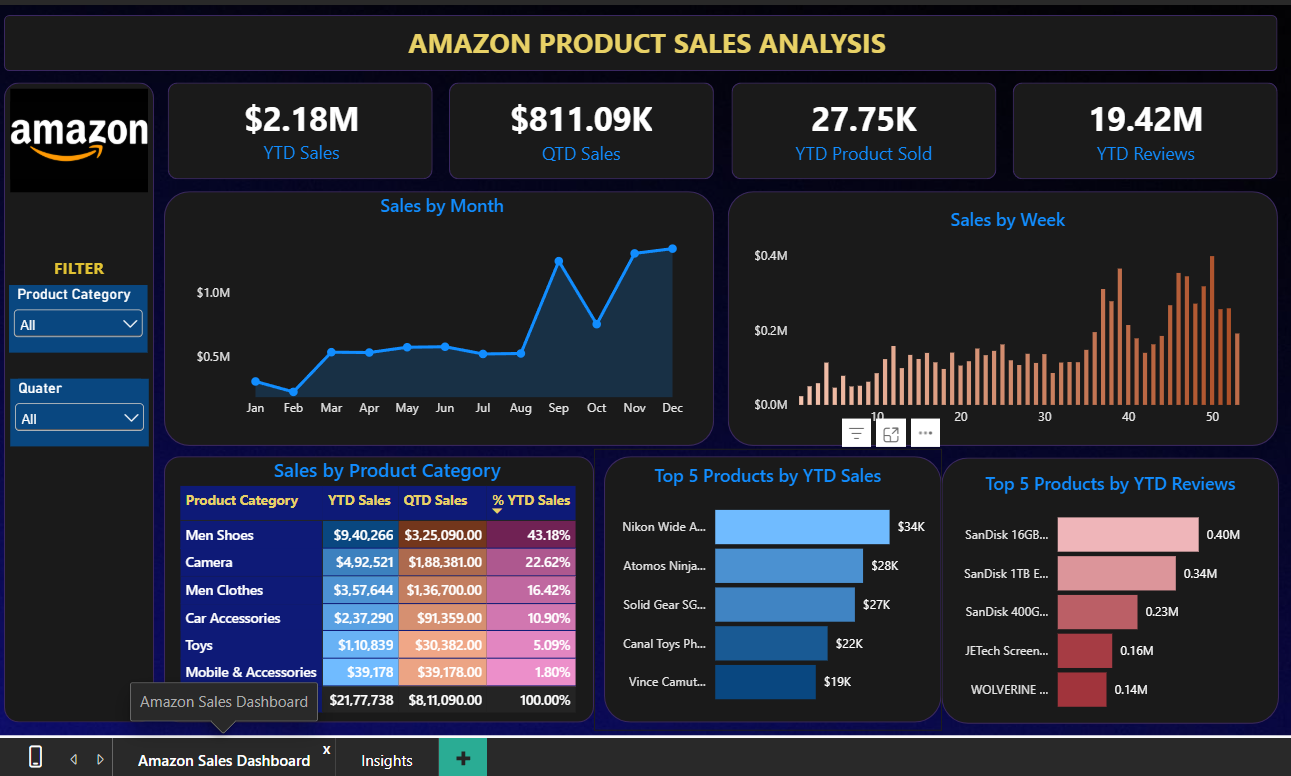

What the dashboard file says about the page in this screenshot:
{"tool":"powerbi","page":{"name":"Amazon Sales Dashboard","canvas":[1280,720],"ordinal":0},"visuals":[{"type":"shape","box":[15,9.8,1250,55],"z":0},{"type":"textbox","box":[391.4,18.4,509.2,46.6],"z":1000},{"type":"shape","box":[14.7,76.1,147.2,628.2],"z":2000},{"type":"shape","box":[175.5,76.1,260,95],"z":3000},{"type":"shape","box":[451.9,76.1,260,95],"z":4000},{"type":"shape","box":[728.4,76.1,260,95],"z":5000},{"type":"shape","box":[1004.9,76.1,260,95],"z":6000},{"type":"cardVisual","fields":{"Data":["Amazon_Data.YTD Sales"]},"box":[187.7,76.1,238,94.5],"z":7000},{"type":"cardVisual","fields":{"Data":["Amazon_Data.QTD Sales"]},"box":[461.4,81,240.5,85.9],"z":8000},{"type":"cardVisual","fields":{"Data":["Amazon_Data.YTD Product Sold"]},"box":[741.1,81,235.6,85.9],"z":9000},{"type":"cardVisual","fields":{"Data":["Amazon_Data.YTD Reviews"]},"box":[1016,81,239.3,85.9],"z":10000},{"type":"shape","box":[171.8,182.8,540,250],"z":11000},{"type":"shape","box":[725.2,182.8,540,250],"z":12000},{"type":"areaChart","title":"Sales by Month","fields":{"Category":["Calendar Table.Month"],"Y":["Sum(Amazon_Data.Price(Dollar))"]},"box":[187.7,170.6,514.1,254],"z":13000},{"type":"columnChart","title":"Sales by Week","fields":{"Category":["Calendar Table.Week"],"Y":["Sum(Amazon_Data.Price(Dollar))"]},"box":[735,184.1,530.1,249.1],"z":14000},{"type":"shape","box":[171.8,442.9,422.1,261.4],"z":15000},{"type":"pivotTable","fields":{"Rows":["Amazon_Data.Product Category"],"Values":["Amazon_Data.YTD Sales1","Amazon_Data.QTD Sales","Amazon_Data.YTD Sales"]},"box":[171.8,457.7,440,262.6],"z":16000},{"type":"textbox","box":[187.7,442.9,406.1,38],"z":17000},{"type":"shape","box":[603.7,442.9,331.3,261.4],"z":18000},{"type":"shape","box":[935,444.2,331.3,261.4],"z":19000},{"type":"clusteredBarChart","title":"Top 5 Products by YTD Sales","fields":{"Category":["Amazon_Data.Product Description"],"Y":["Amazon_Data.YTD Sales"]},"box":[593.9,435.6,341.1,277.3],"z":20000},{"type":"clusteredBarChart","title":"Top 5 Products by YTD Reviews","fields":{"Category":["Amazon_Data.Product Description"],"Y":["Amazon_Data.YTD Reviews"]},"box":[930.1,442.9,341.1,277.3],"z":21000},{"type":"slicer","fields":{"Values":["Amazon_Data.Product Category"]},"box":[19.6,274.8,136.2,66.3],"z":22000},{"type":"slicer","fields":{"Values":["Calendar Table.Quater"]},"box":[20.9,366.9,136.2,66.3],"z":23000},{"type":"image","box":[20.9,82.2,135,101.8],"z":24000},{"type":"textbox","box":[20.9,246.6,135,28.2],"z":25000}]}

Visuals, with their boxes on the page's 1280x720 design canvas (x1, y1, x2, y2). These are canvas units, not pixel positions in the 1291x776 screenshot, which may show the page scaled, cropped or inside an application window:
shape: (left=15, top=10, right=1265, bottom=65)
textbox: (left=391, top=18, right=901, bottom=65)
shape: (left=15, top=76, right=162, bottom=704)
shape: (left=176, top=76, right=436, bottom=171)
shape: (left=452, top=76, right=712, bottom=171)
shape: (left=728, top=76, right=988, bottom=171)
shape: (left=1005, top=76, right=1265, bottom=171)
cardVisual - Amazon_Data.YTD Sales: (left=188, top=76, right=426, bottom=171)
cardVisual - Amazon_Data.QTD Sales: (left=461, top=81, right=702, bottom=167)
cardVisual - Amazon_Data.YTD Product Sold: (left=741, top=81, right=977, bottom=167)
cardVisual - Amazon_Data.YTD Reviews: (left=1016, top=81, right=1255, bottom=167)
shape: (left=172, top=183, right=712, bottom=433)
shape: (left=725, top=183, right=1265, bottom=433)
"Sales by Month" areaChart: (left=188, top=171, right=702, bottom=425)
"Sales by Week" columnChart: (left=735, top=184, right=1265, bottom=433)
shape: (left=172, top=443, right=594, bottom=704)
pivotTable - Amazon_Data.Product Category x Amazon_Data.YTD Sales1: (left=172, top=458, right=612, bottom=720)
textbox: (left=188, top=443, right=594, bottom=481)
shape: (left=604, top=443, right=935, bottom=704)
shape: (left=935, top=444, right=1266, bottom=706)
"Top 5 Products by YTD Sales" clusteredBarChart: (left=594, top=436, right=935, bottom=713)
"Top 5 Products by YTD Reviews" clusteredBarChart: (left=930, top=443, right=1271, bottom=720)
slicer - Amazon_Data.Product Category: (left=20, top=275, right=156, bottom=341)
slicer - Calendar Table.Quater: (left=21, top=367, right=157, bottom=433)
image: (left=21, top=82, right=156, bottom=184)
textbox: (left=21, top=247, right=156, bottom=275)
